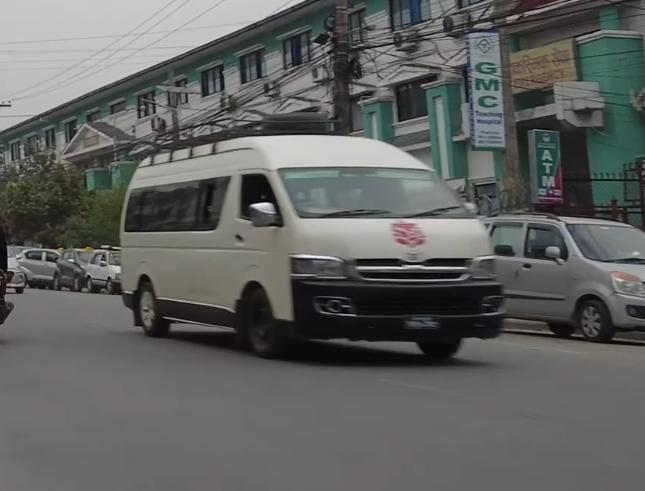car: (482, 207, 645, 344)
micro_bus: (111, 122, 510, 371)
taxi: (84, 242, 131, 296)
